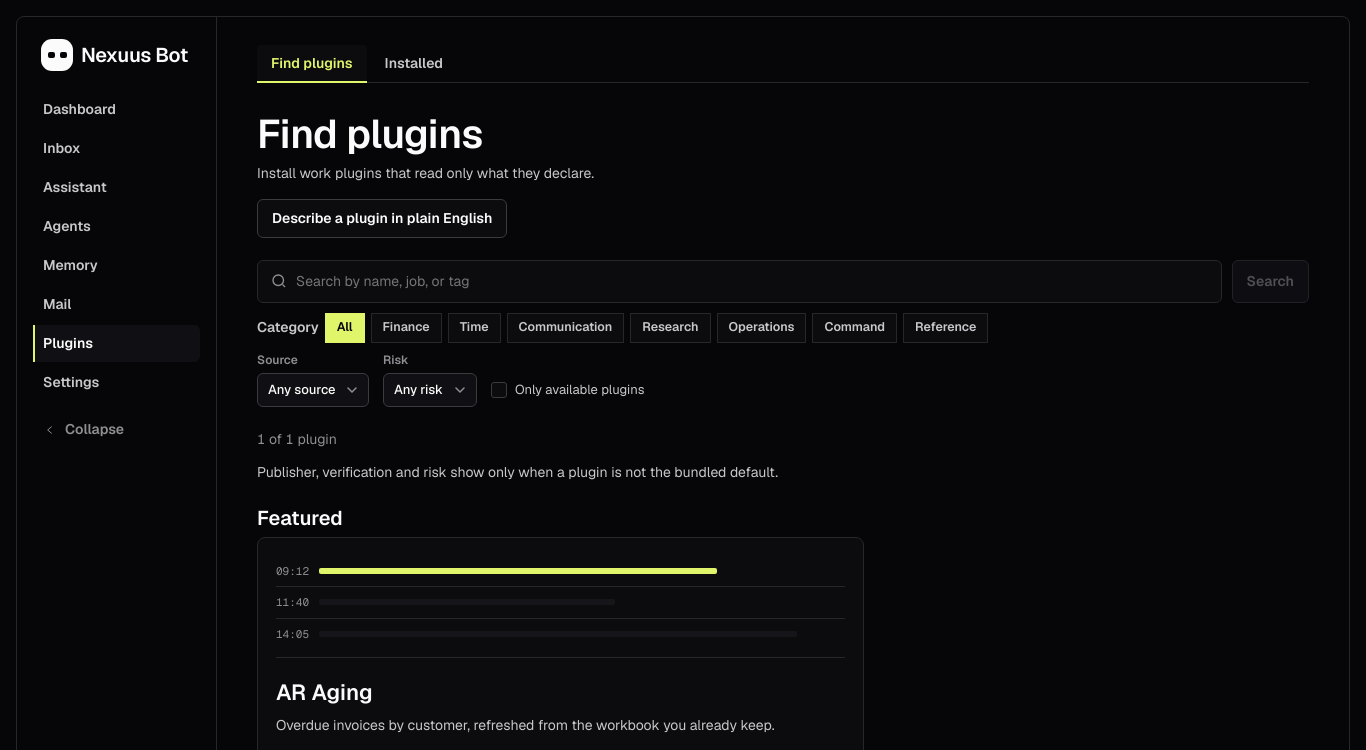
Test: the marketplace catalog surface › disables Search until the question has a word, and does nothing while empty
Check: the text "AR Aging" is shown, box [276,678,373,706]
Click the button "Search" at (1270, 281), box [1232,260,1309,303]
(page scrolled)
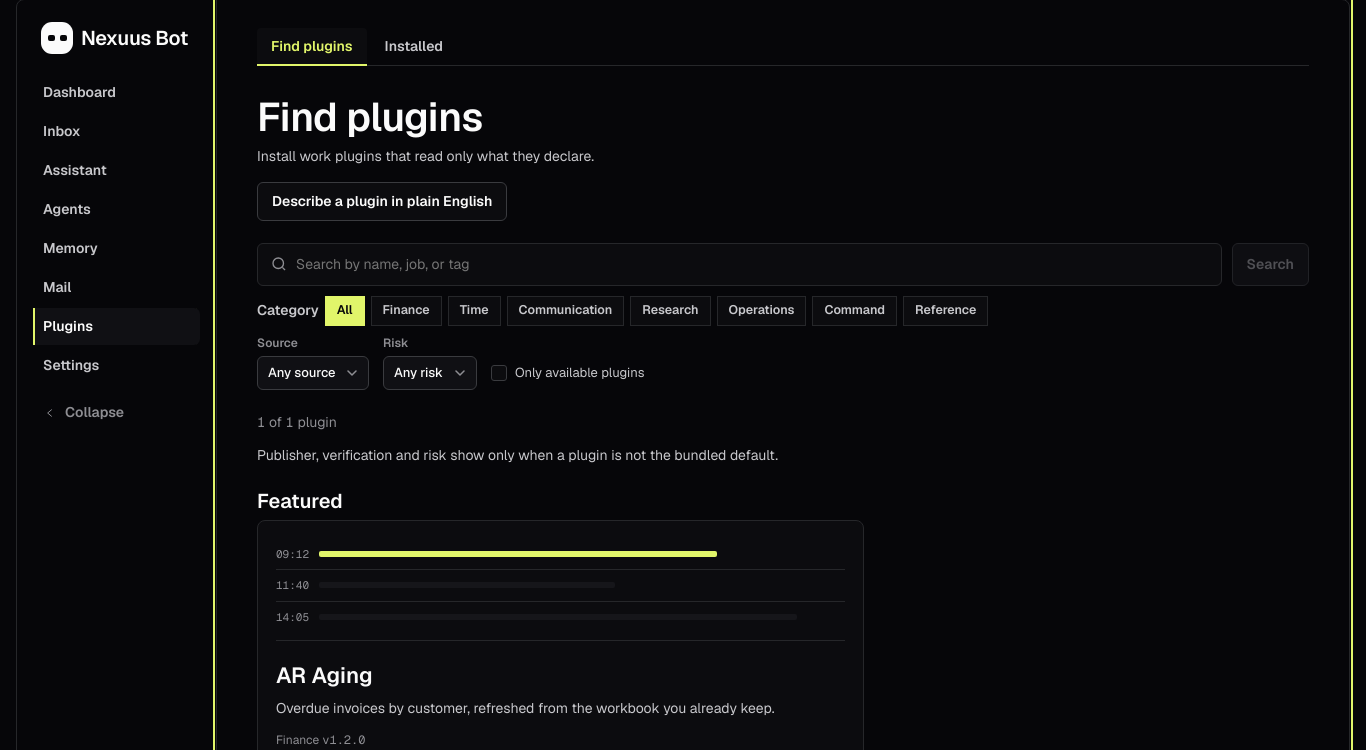
Type "aging" into the search field named "Search plugins" at (752, 264), box [296,244,1209,285]
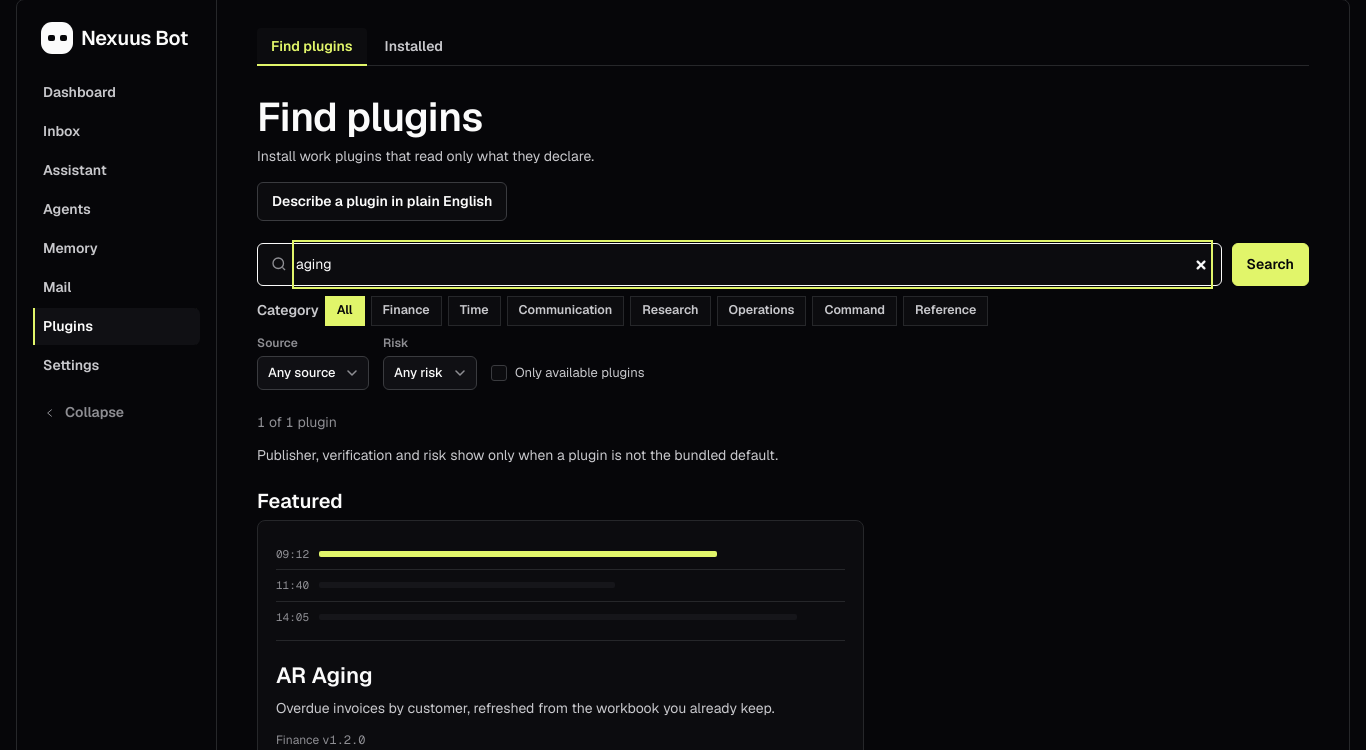
Check: the button "Search" is enabled, box [1232,243,1309,286]
Clear the search field named "Search plugins" at (752, 264), box [296,244,1209,285]
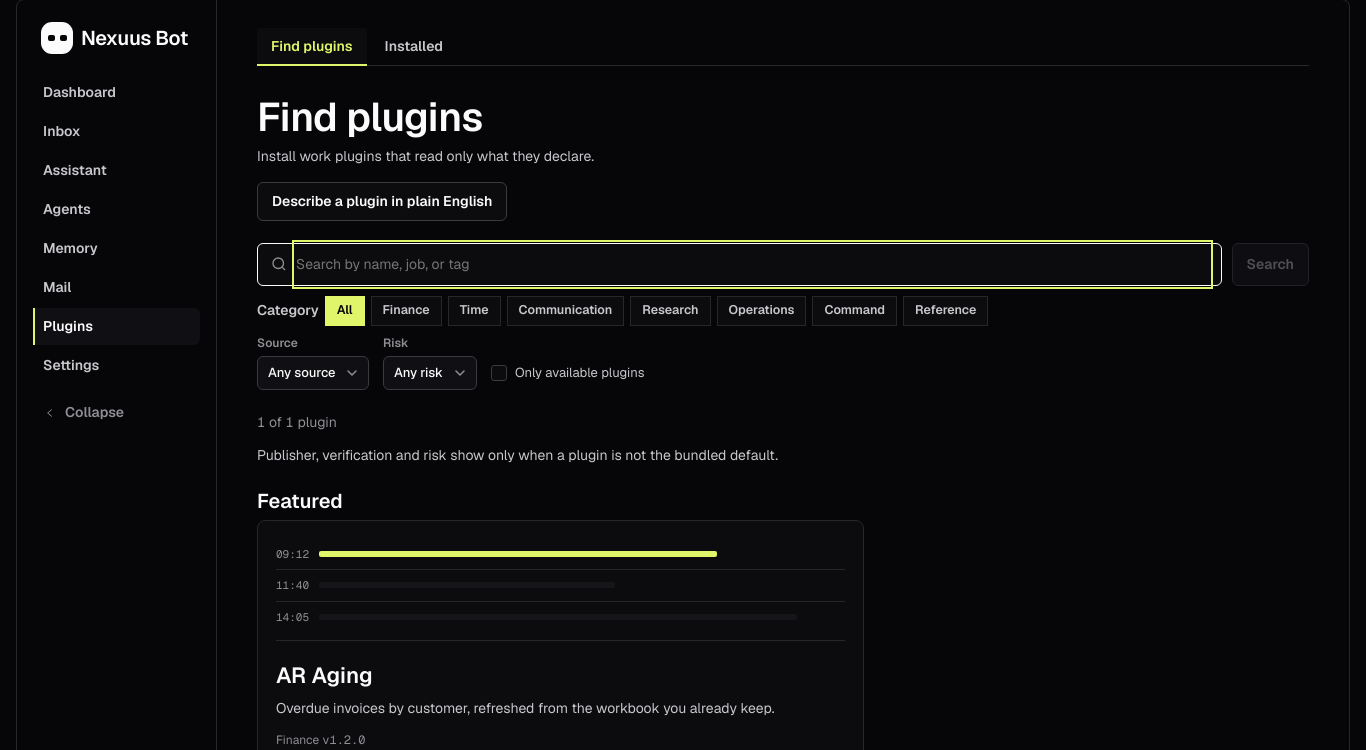
Check: the button "Search" is disabled, box [1232,243,1309,286]
